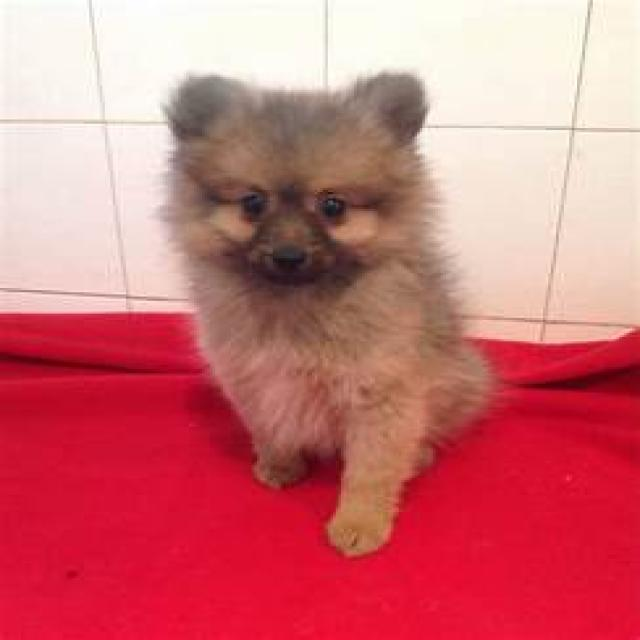dog: (157, 73, 498, 561)
